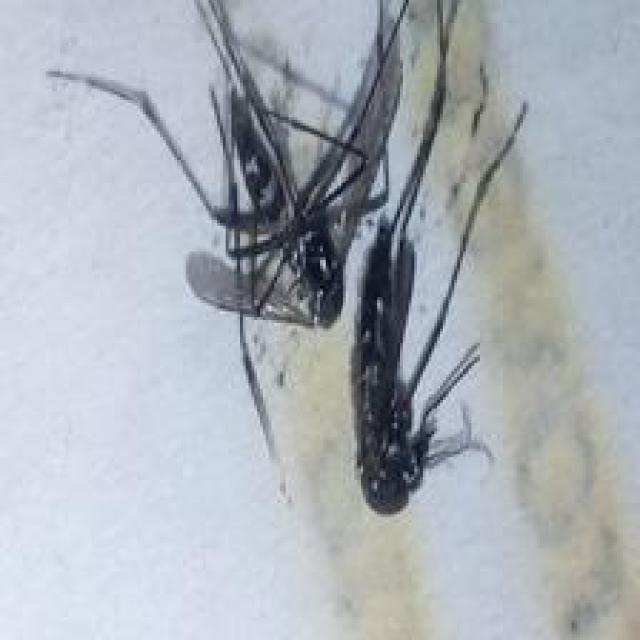Aedes albopictus: (46, 0, 531, 517)
